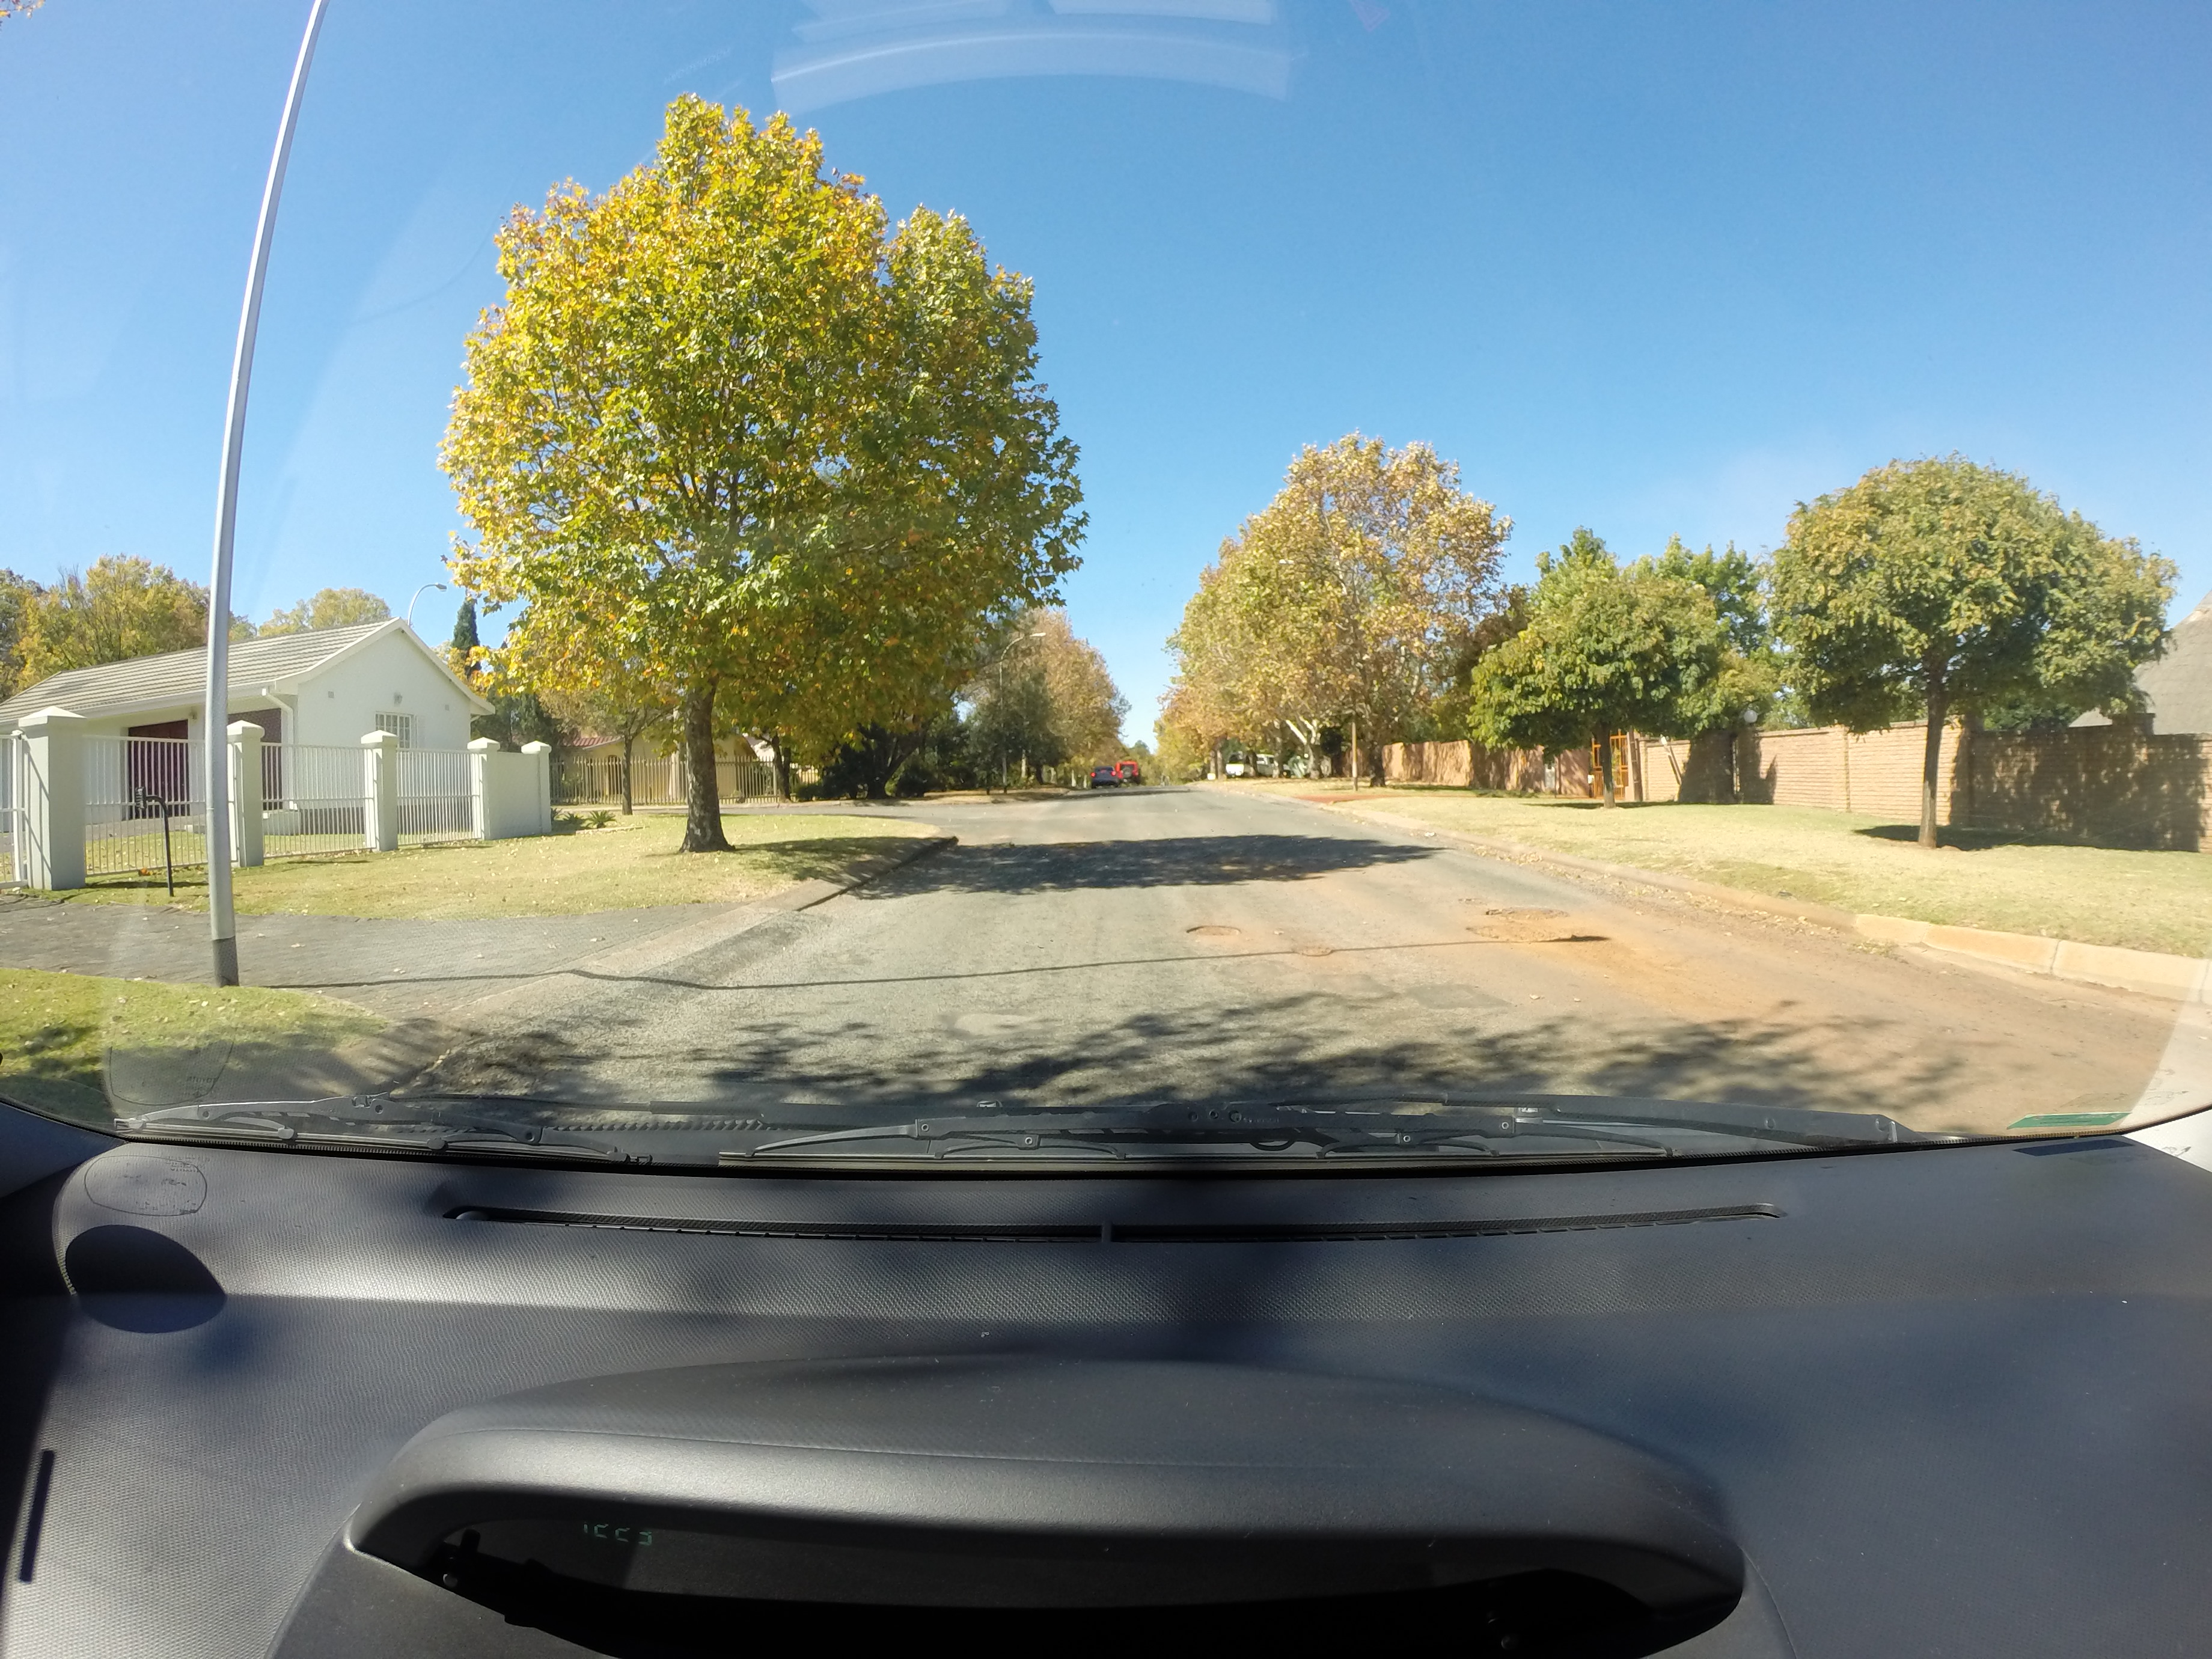pothole: (1163, 906, 1305, 974)
